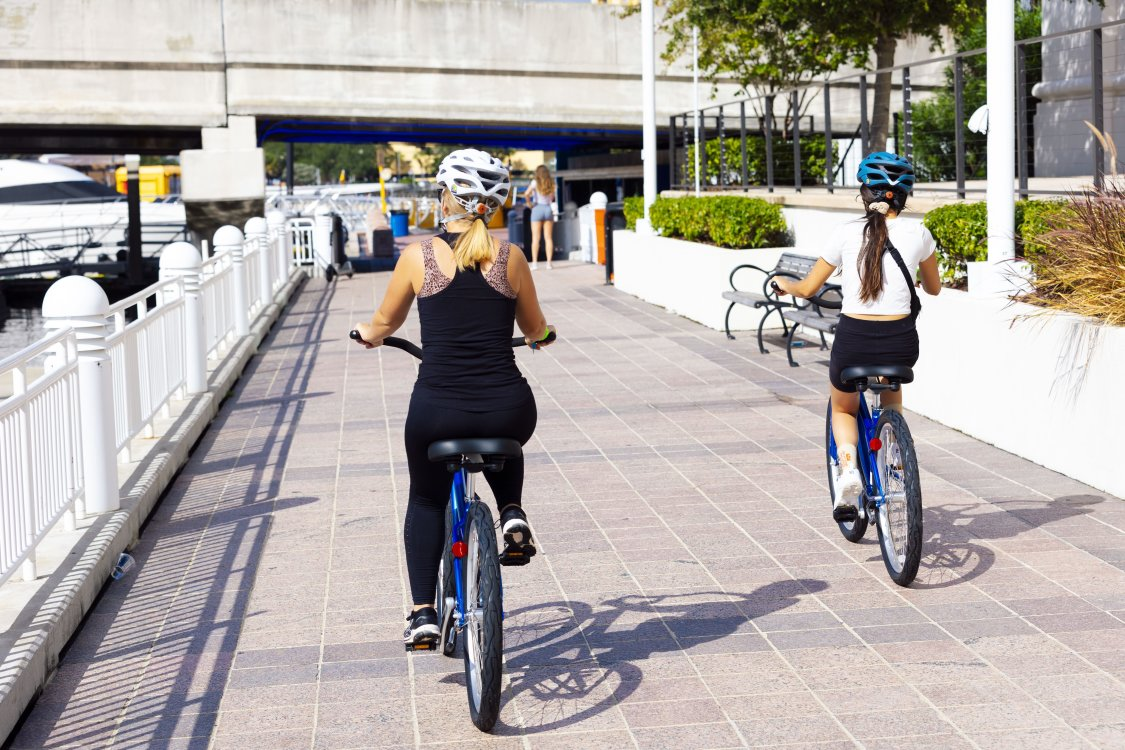Bicycle: (422, 439, 545, 725), (831, 359, 938, 584)
Person: (379, 142, 548, 444), (807, 146, 930, 373), (529, 166, 569, 270)
